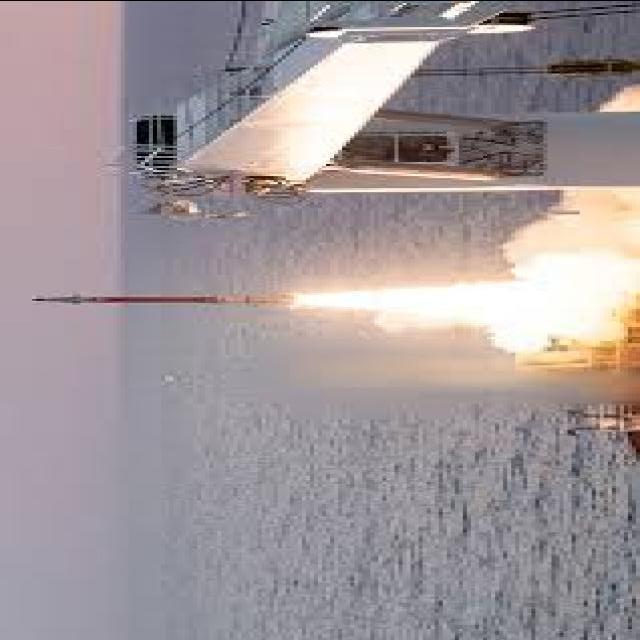missile: (32, 289, 302, 314)
